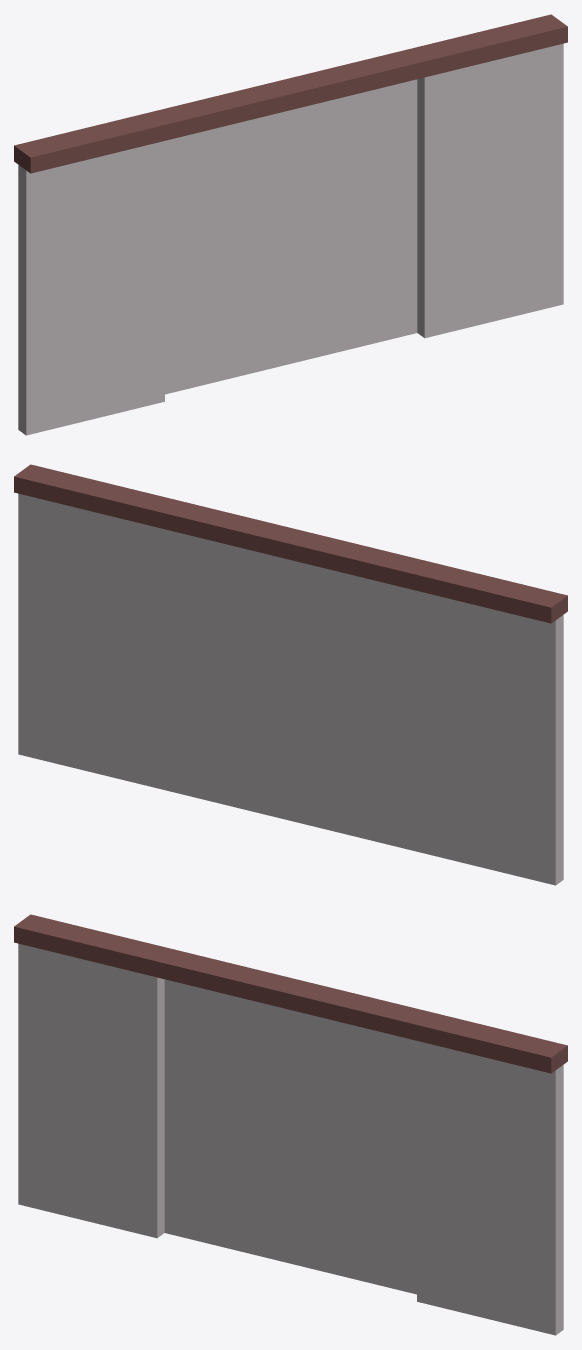
The model's file is BWallPanel_AA.fbx.
3 views of the same model, one above another, from view 1: azimuth 30°, elevation 25°; view 2: azimuth 150°, elevation 25°; view 3: azimuth 330°, elevation 25° (orthographic).
Parts seen in each view (by area): view 1: BWallPanel_Door_AA; view 2: BWallPanel_Door_AA; view 3: BWallPanel_Door_AA.
Boxes of the visible parts, x1,y1,x2,y2 form: BWallPanel_Door_AA: (14,14,567,435); BWallPanel_Door_AA: (14,464,567,885); BWallPanel_Door_AA: (14,914,567,1335).
Bounding box in the file's own units: 800 × 400 × 43.
